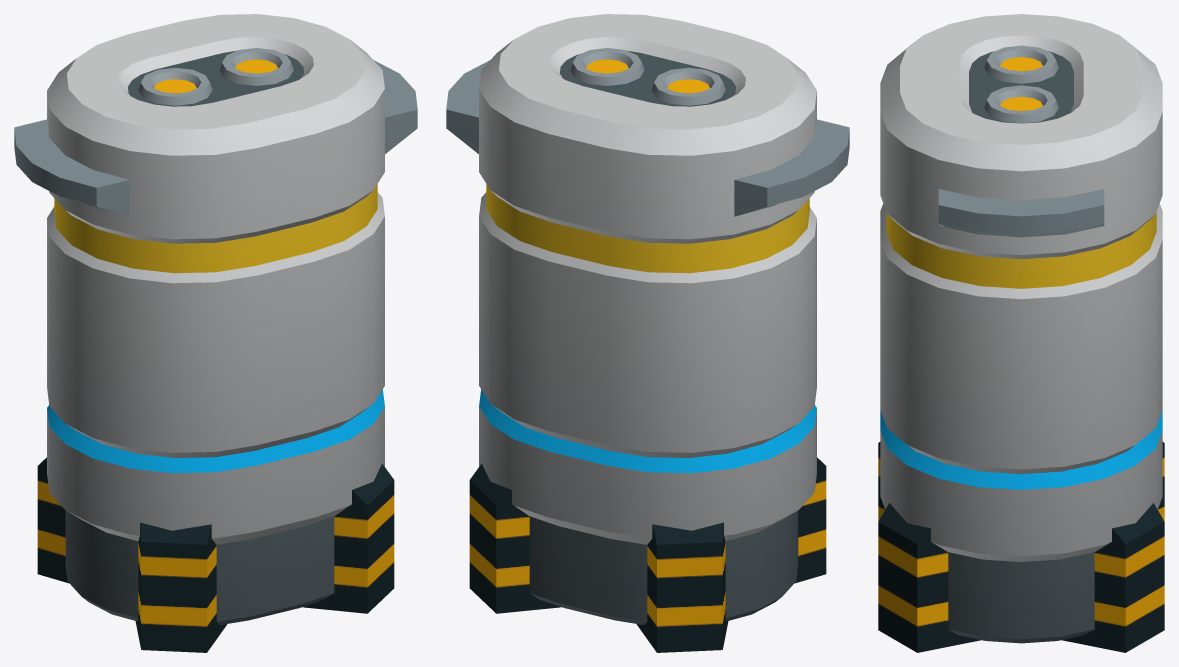
The model's file is Barrel_008.fbx.
3 views of the same model, side by side, from view 1: azimuth 30°, elevation 25°; view 2: azimuth 150°, elevation 25°; view 3: azimuth 270°, elevation 25° (orthographic).
Visible parts, largest first — view 1: Barrel_008; view 2: Barrel_008; view 3: Barrel_008.
Part boxes in pixels (bbox=[...]): Barrel_008: bbox=[14, 14, 417, 652]; Barrel_008: bbox=[446, 14, 849, 652]; Barrel_008: bbox=[878, 14, 1164, 652].
Size of the model in its own units: 75.5 by 50.7 by 100.
